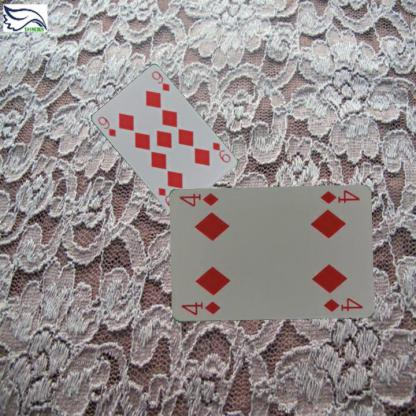4d: (178, 298, 222, 316), (318, 188, 360, 206)
9d: (209, 139, 232, 164), (95, 113, 117, 138)
